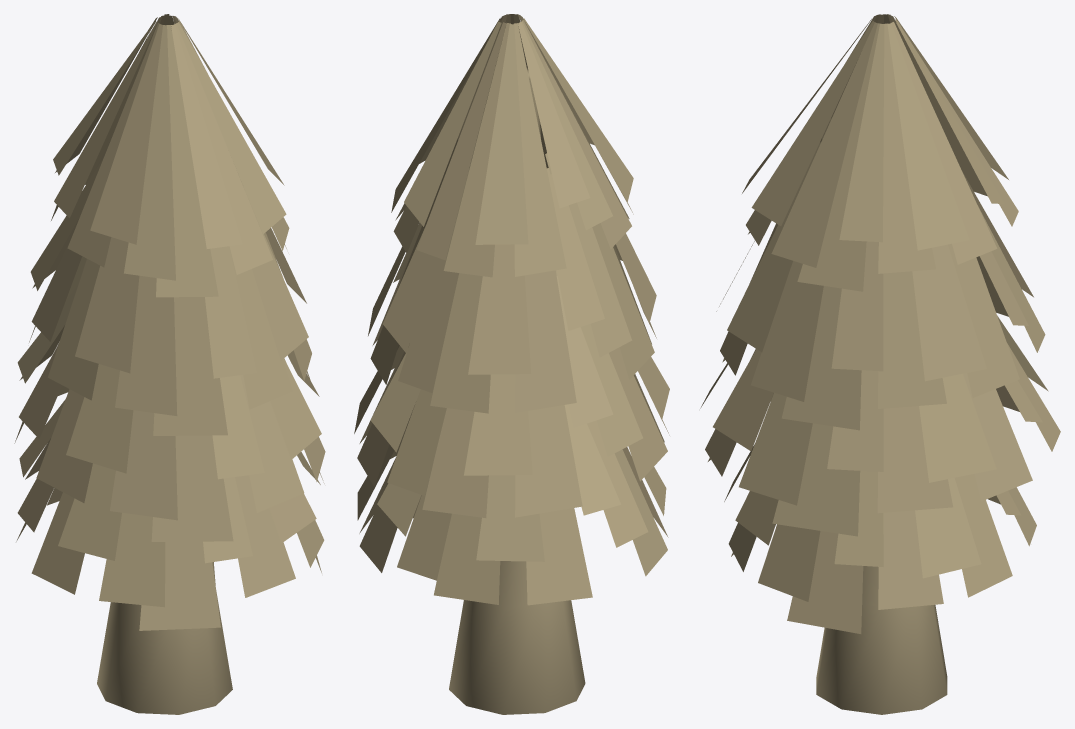
Rendered from arbre.fbx.
3 views of the same model, side by side, from view 1: azimuth 30°, elevation 25°; view 2: azimuth 150°, elevation 25°; view 3: azimuth 270°, elevation 25° (orthographic).
Parts seen in each view (by area): view 1: polySurface68; view 2: polySurface68; view 3: polySurface68.
Part boxes in pixels (x1,y1,x2,y2): polySurface68: (14, 14, 325, 714); polySurface68: (354, 14, 669, 714); polySurface68: (700, 14, 1060, 714).
Size of the model in its own units: 370 by 870 by 427.
